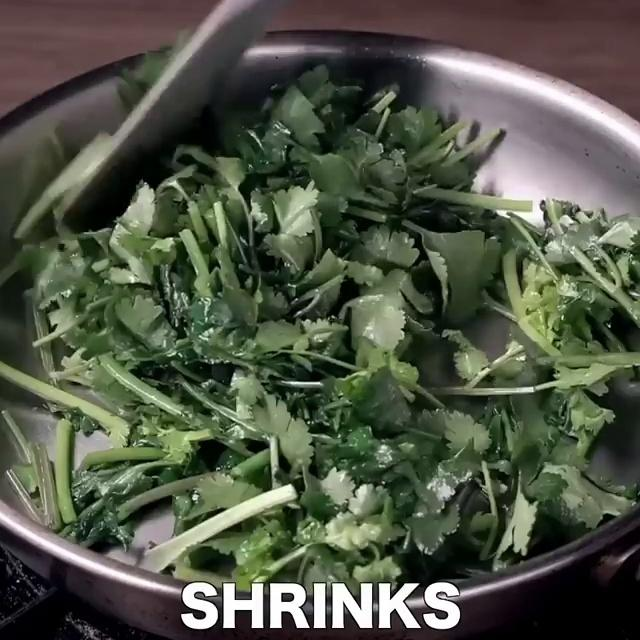cilantro: (153, 98, 639, 563)
